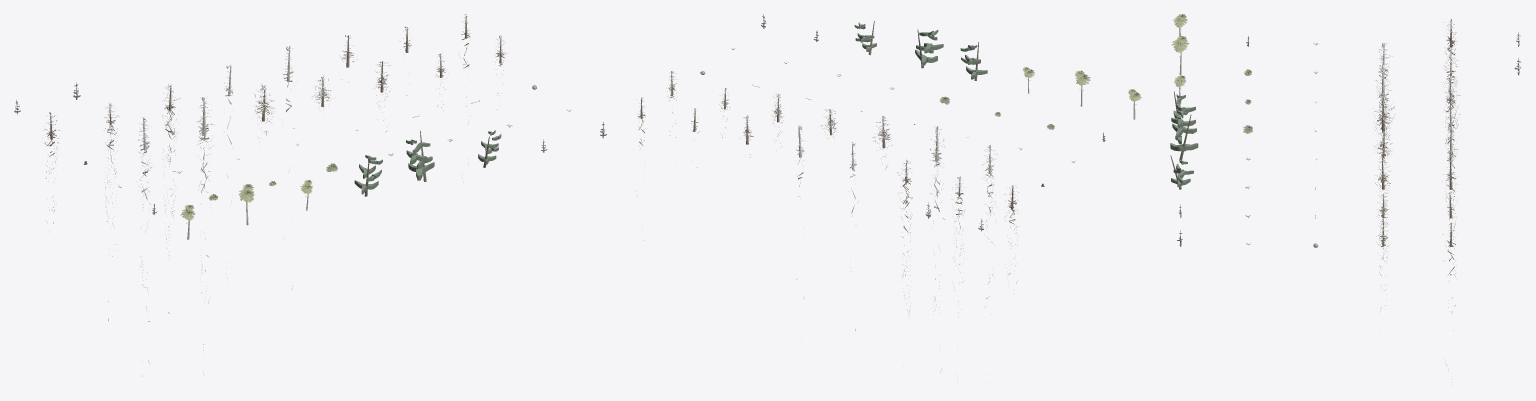
File: agentb_foliage_kit.glb
3 views of the same model, side by side, from view 1: azimuth 30°, elevation 25°; view 2: azimuth 150°, elevation 25°; view 3: azimuth 270°, elevation 25° (orthographic). The views are drawn at different scales.
Size of the model in its own units: 87.27 by 55.27 by 62.35.
